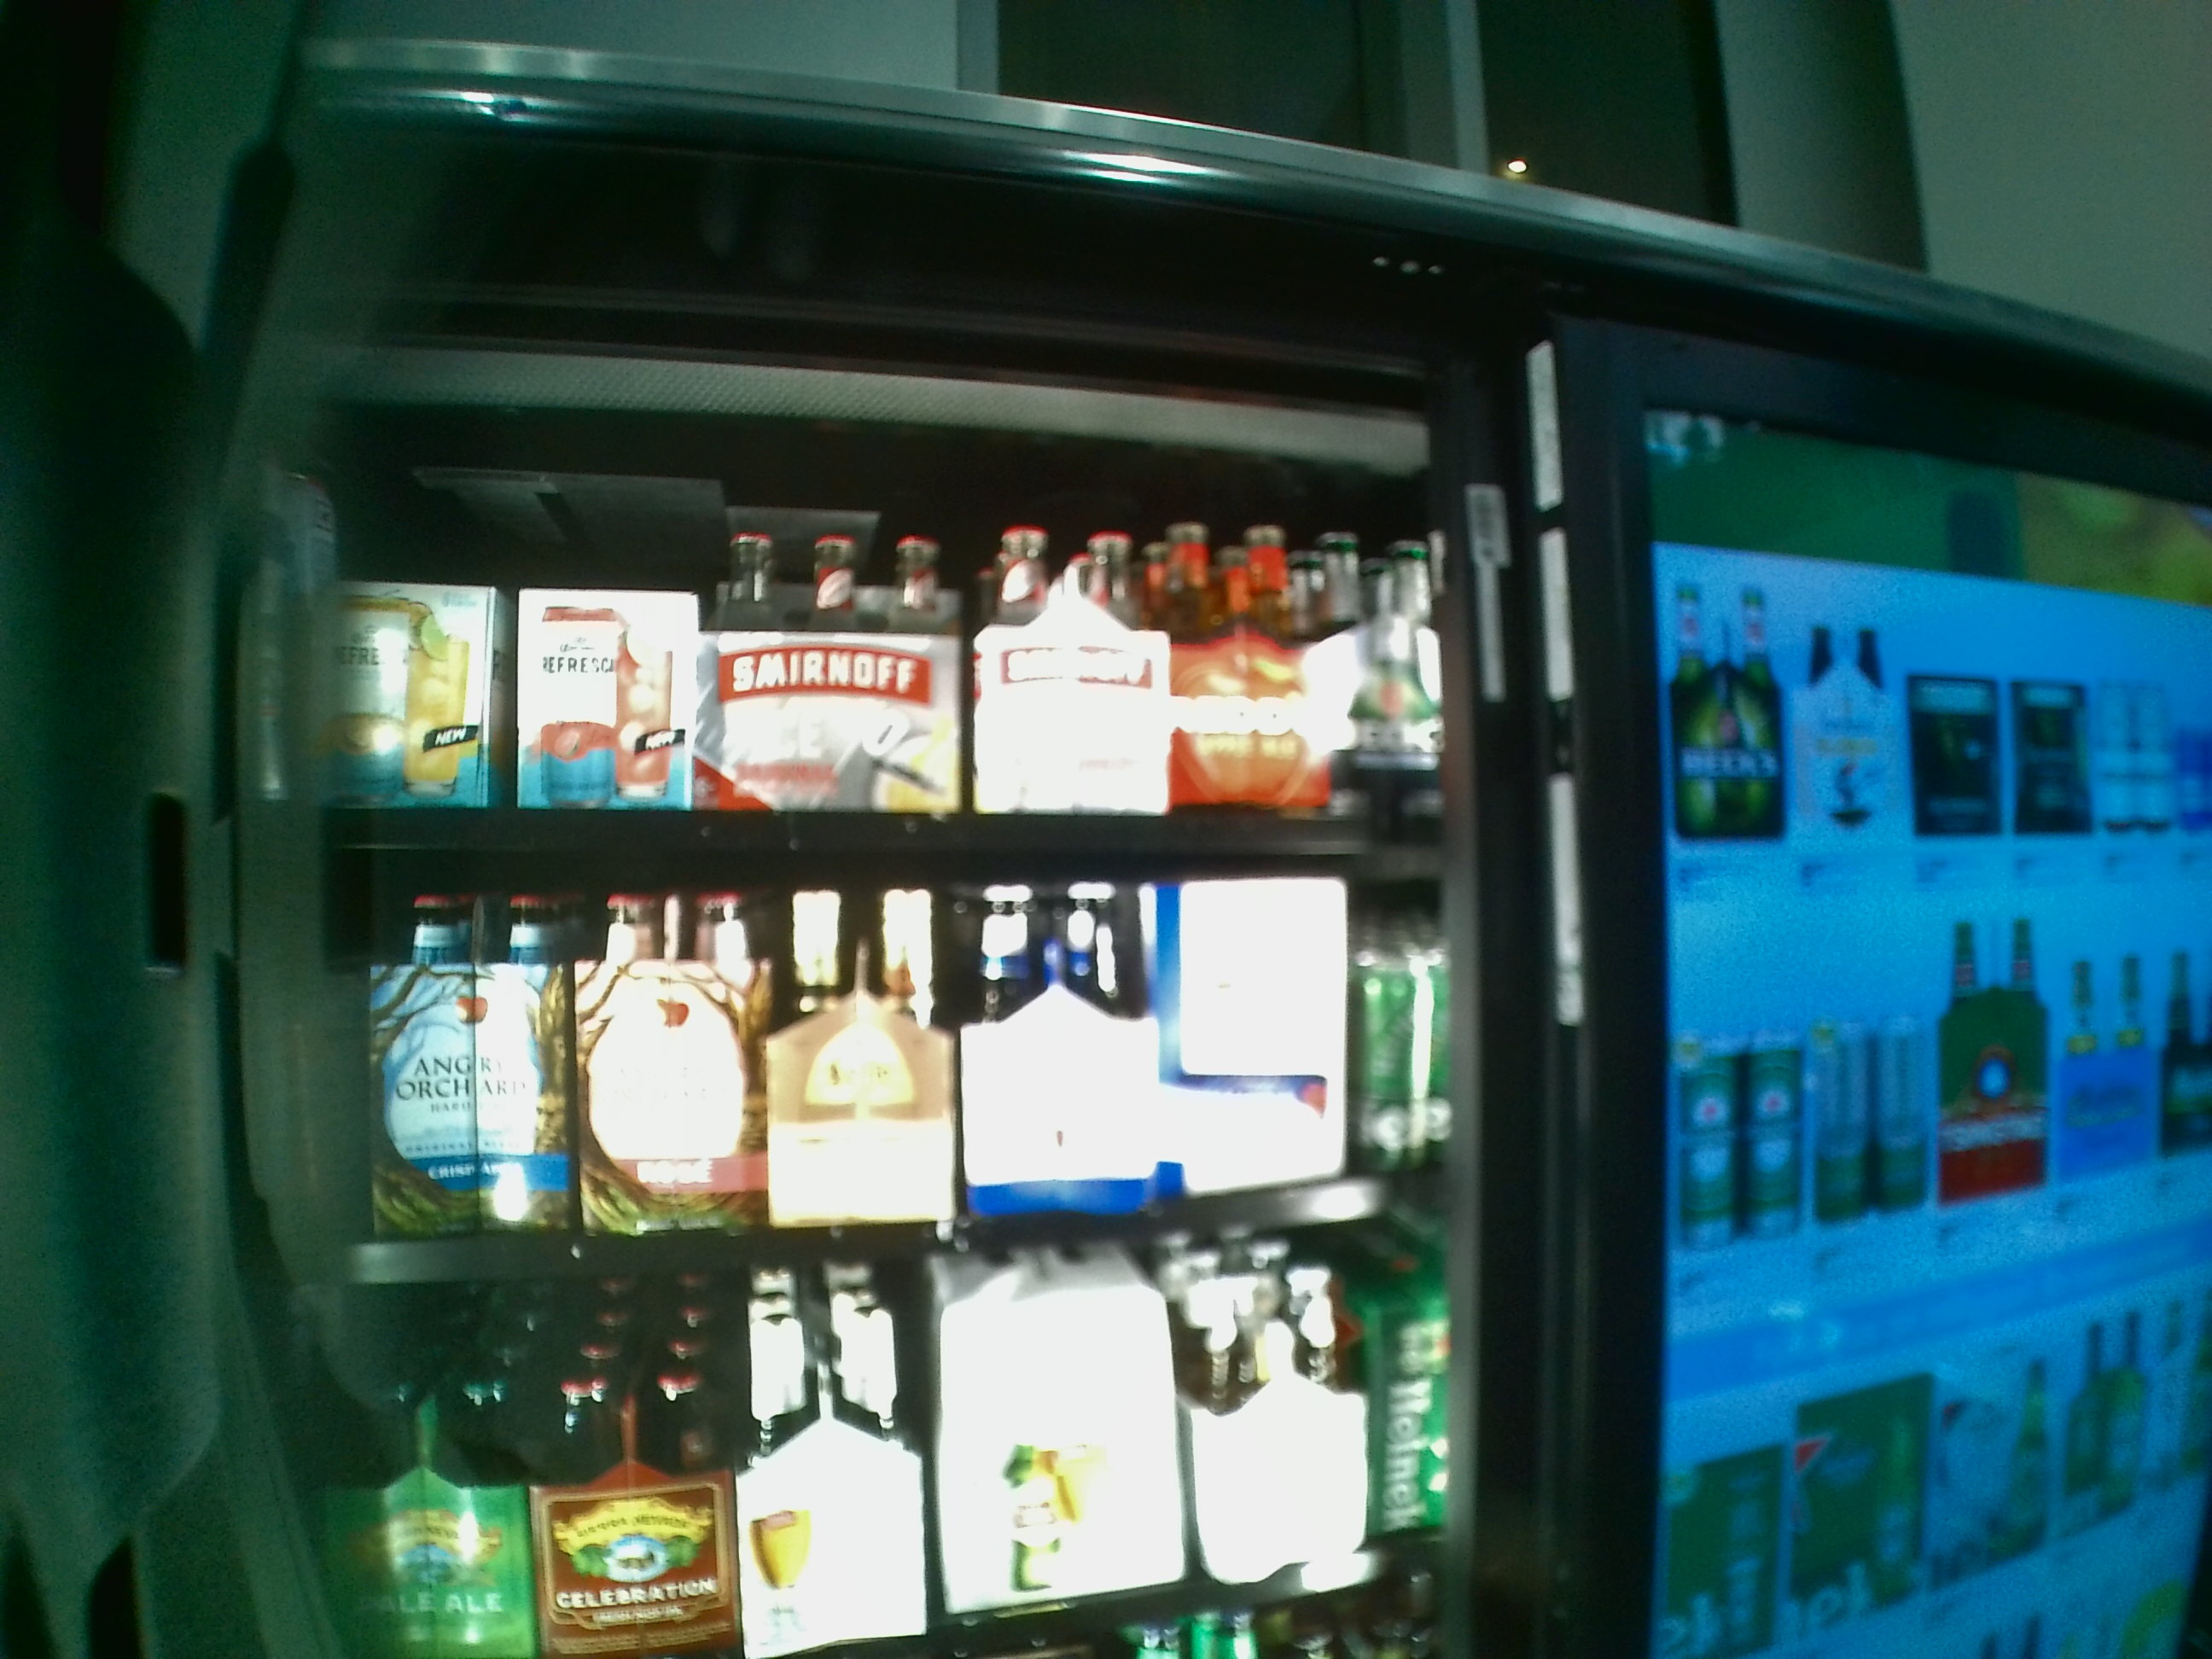shelf: (319, 870, 1446, 1291), (308, 476, 1440, 859)
